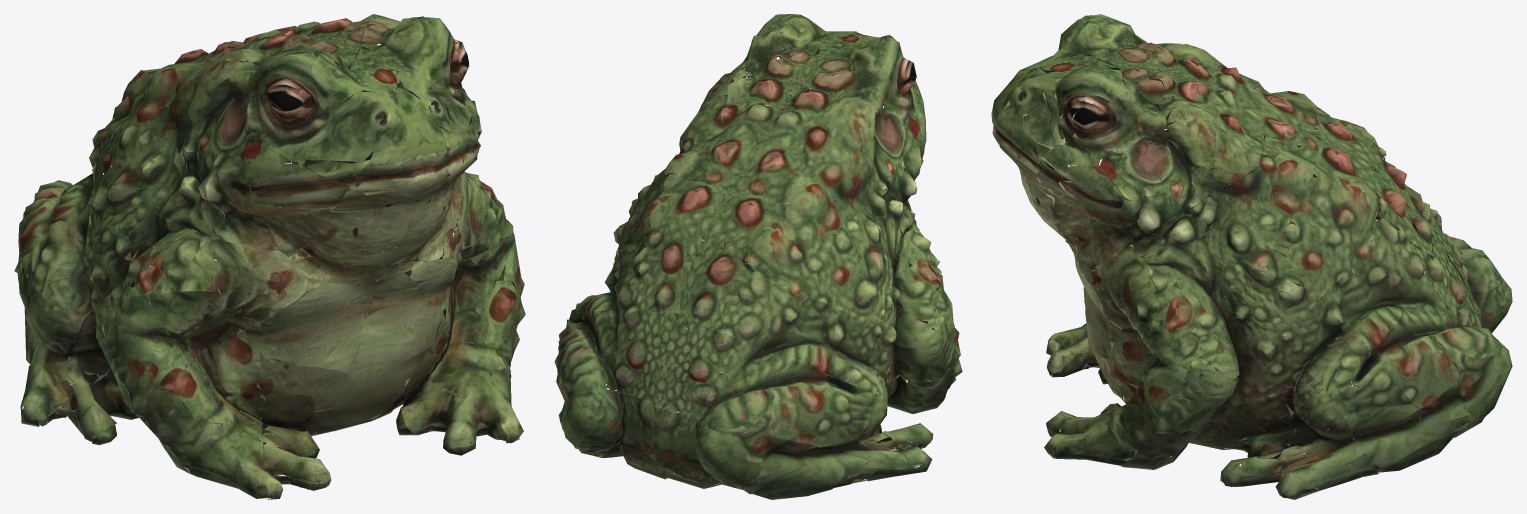
The model's file is frog.glb.
3 views of the same model, side by side, from view 1: azimuth 30°, elevation 25°; view 2: azimuth 150°, elevation 25°; view 3: azimuth 270°, elevation 25° (orthographic). The views are drawn at different scales.
Visible parts, largest first — view 1: Rana; view 2: Rana; view 3: Rana.
Boxes of the visible parts, bbox=[...] form: Rana: bbox=[14, 14, 525, 499]; Rana: bbox=[554, 14, 962, 499]; Rana: bbox=[991, 14, 1512, 499].
Size of the model in its own units: 0.5766 by 0.5 by 0.6521.
Materials: 1 (1 with a texture image).
